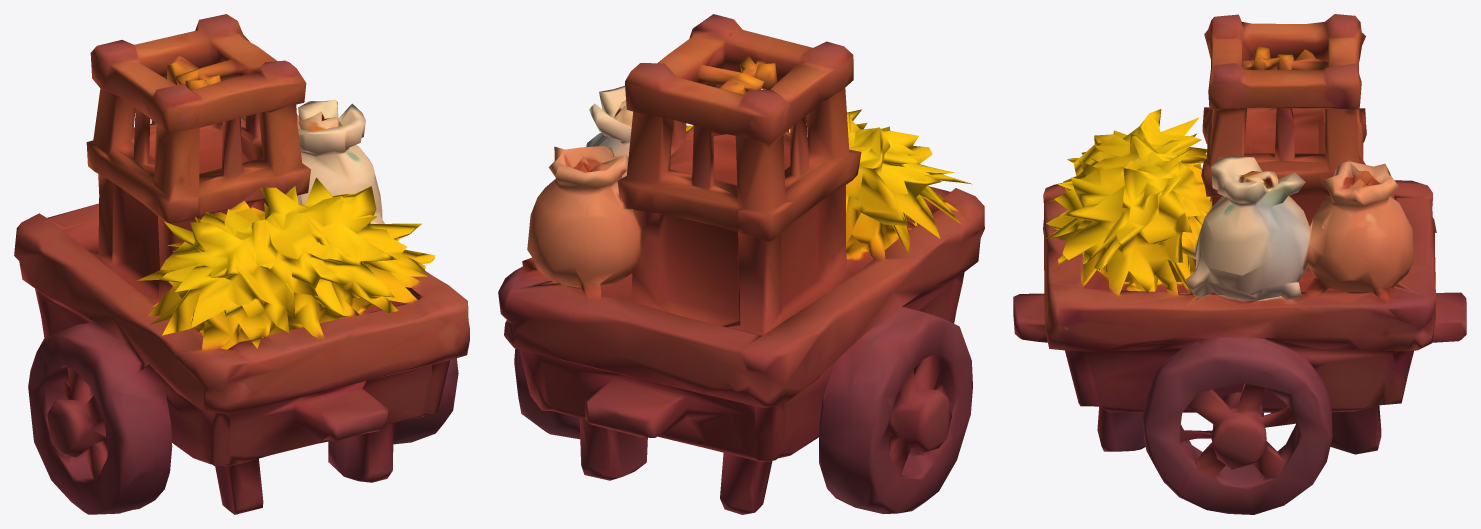
Rendered from beast_barrow-CJXFf_b-.glb.
3 renders of one model, left to right at view 1: azimuth 30°, elevation 25°; view 2: azimuth 150°, elevation 25°; view 3: azimuth 270°, elevation 25°, orthographic. The views are drawn at different scales.
Visible parts, largest first — view 1: tripo_node_bf62e956-4805-47a8-9870-47a507c8eb36; view 2: tripo_node_bf62e956-4805-47a8-9870-47a507c8eb36; view 3: tripo_node_bf62e956-4805-47a8-9870-47a507c8eb36.
Part boxes in pixels (<box>): tripo_node_bf62e956-4805-47a8-9870-47a507c8eb36: <box>14,14,469,514</box>; tripo_node_bf62e956-4805-47a8-9870-47a507c8eb36: <box>498,14,984,514</box>; tripo_node_bf62e956-4805-47a8-9870-47a507c8eb36: <box>1013,14,1466,514</box>.
Size of the model in its own units: 0.902 by 0.9376 by 1.
1 material, 1 textured.
